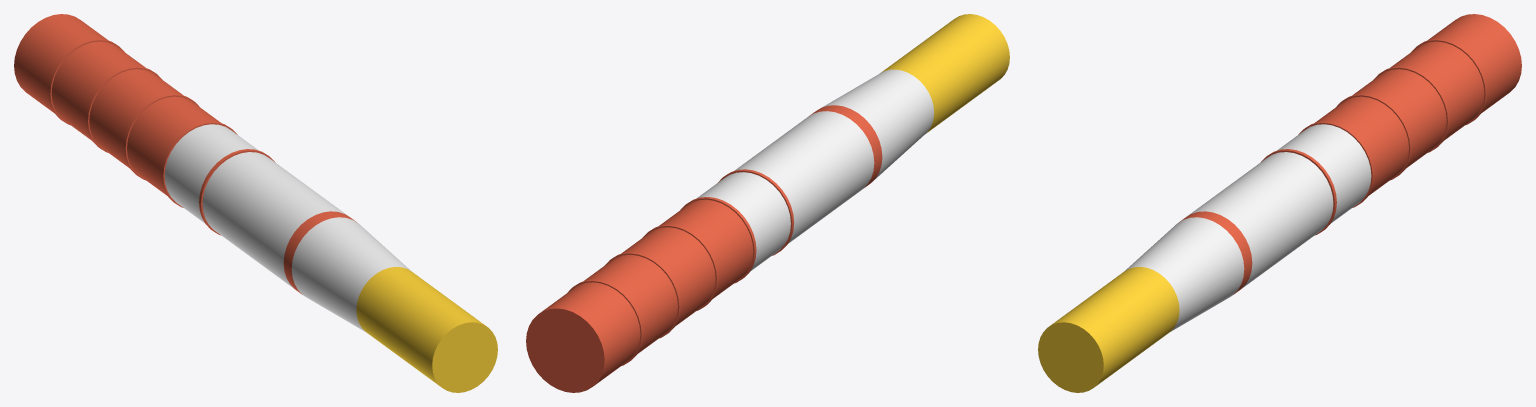
File: offshore_wind_turbine_monopile.glb
3 views of the same model, side by side, from view 1: azimuth 30°, elevation 25°; view 2: azimuth 150°, elevation 25°; view 3: azimuth 330°, elevation 25° (orthographic).
Parts seen in each view (by area): view 1: monopile; view 2: monopile; view 3: monopile.
Part boxes in pixels (left/top/right/bottom): monopile: left=14, top=14, right=497, bottom=392; monopile: left=526, top=14, right=1009, bottom=392; monopile: left=1038, top=14, right=1521, bottom=392.
Bounding box in the file's own units: 11.35 × 11.35 × 99.68.
